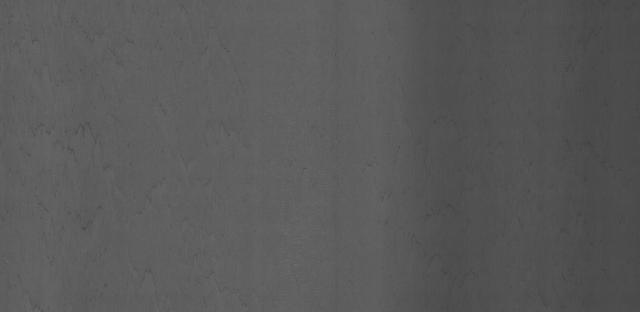silk_spot: (41, 25, 180, 248)
